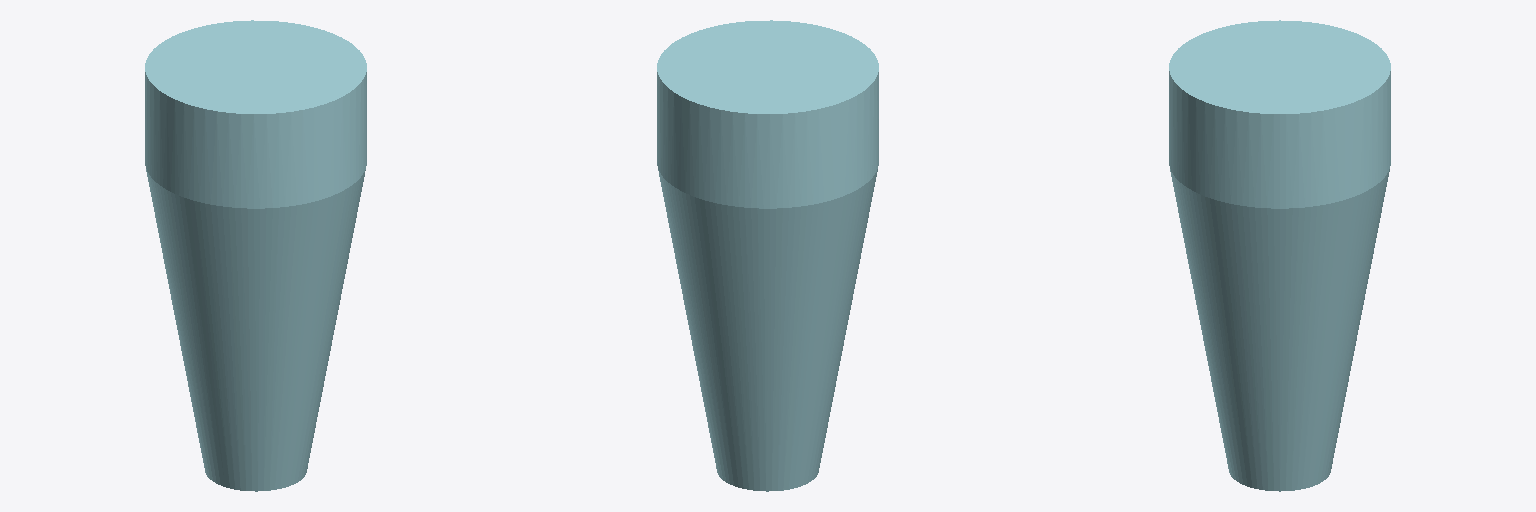
The robot description file, URDF, robot "objects":
<?xml  version="1.0"?>
<robot name ="objects"> 
    <!-- Author: [author]; e-mail:[email redacted]. The urdf file was develped in tongji university.-->

    <!--create  color params-->
    <material name ="LightGrey">
        <color rgba="0.7 0.7 0.7 1.0"/>
    </material>

    <material name ="White">
        <color rgba="1 1 1 1.0"/>
    </material>

    <material name ="Green">
        <color rgba="0.1 0. 1.0 1.0"/>
    </material>

    <material name ="Yellow">
        <color rgba="1. 1. 0. 1.0"/>
    </material>

    <material name ="Orange">
        <color rgba="1. 0.38 0. 1.0"/>
    </material>

    <material name ="Blue">
        <color rgba="0.69 0.87 0.9 1.0"/>
    </material>

    <mass name ="table_mass">
        <mass value="1.0"/>
    </mass>

    <mass name ="cylander_mass">
        <mass value="2.0"/>
    </mass>



    <link  name ="World"/>

    <joint name="cylinder1_to_world" type="floating">
        <parent link="World"/>
        <child link="cylinder1"/>
        <origin xyz="0. 0. 0." rpy="0.0 0.0 0.0"/>
    </joint>

    <link name = "cylinder1">
        <contact>
            <lateral_friction value="0.05"/>
            <rolling_friction value="0.0"/>
            <contact_erp value="1.0"/>
        </contact>
        <visual>
            <origin  xyz="0.0 0.0 0.0" rpy="0.0 0.0 0.0"/>
            <geometry>
                <mesh filename = "meshes/cylinder_chamfered.dae"/>
            </geometry >
            <material name ="Blue"/>
        </visual>
        <collision>
            <origin xyz="0.0 0.0 0.0" rpy="0.0 0.0 0.0"/>
            <geometry>
                <mesh filename ="meshes/cylinder_chamfered.stl"/>
            </geometry>
        </collision>
        <inertial>
            <mass value = "0.5"/>
            <inertia ixx="1" ixy="0.0" ixz="0.0" iyy="1" iyz="0.0" izz="1"/>
        </inertial>
    </link>
</robot>

--- Render facts (derived) ---
The picture shows the robot from 3 angles, left to right: view 1: azimuth 30°, elevation 25°; view 2: azimuth 150°, elevation 25°; view 3: azimuth 270°, elevation 25°; orthographic projection.
Model objects with 2 links and 1 joints (1 floating), rooted at World, posed all joints at 0.
Links seen in each view (by area): view 1: cylinder1; view 2: cylinder1; view 3: cylinder1.
Link boxes in pixels (x1,y1,x2,y2): cylinder1: [145, 20, 366, 491]; cylinder1: [657, 20, 878, 491]; cylinder1: [1169, 20, 1390, 491].
Size in the robot's own frame: 0.1 by 0.1 by 0.2 metres.
1 mesh visuals loaded from 1 distinct referenced files (1 Collada DAE).